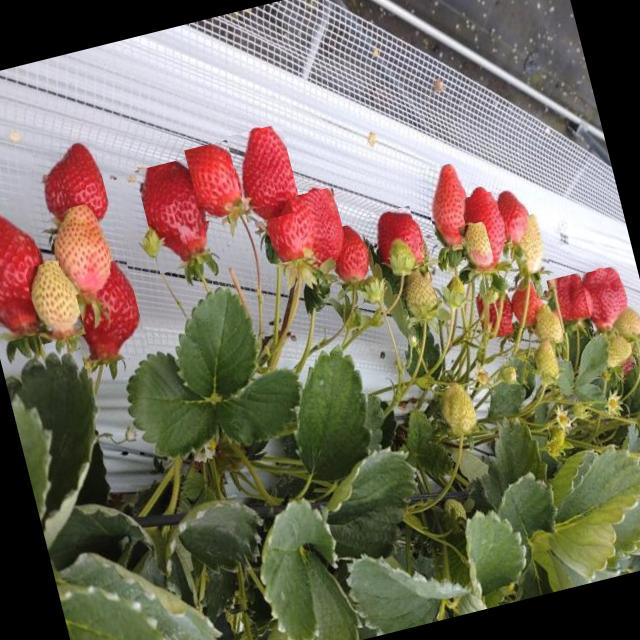ripe: (62, 257, 150, 368), (135, 158, 213, 273), (32, 138, 116, 244), (0, 194, 56, 343), (226, 122, 302, 224), (290, 186, 352, 276), (184, 138, 246, 221), (419, 161, 477, 248), (260, 190, 318, 264), (460, 190, 512, 272), (368, 205, 424, 277), (580, 264, 632, 334), (546, 272, 594, 334), (328, 222, 372, 287), (496, 186, 536, 248), (474, 290, 514, 340), (508, 280, 542, 328)
unripe: (46, 201, 114, 297), (24, 257, 86, 343), (506, 213, 550, 276), (398, 264, 440, 322), (436, 382, 479, 438), (458, 220, 494, 272), (531, 338, 565, 386), (532, 296, 564, 346), (600, 327, 634, 368), (608, 303, 640, 345), (384, 235, 412, 278)
